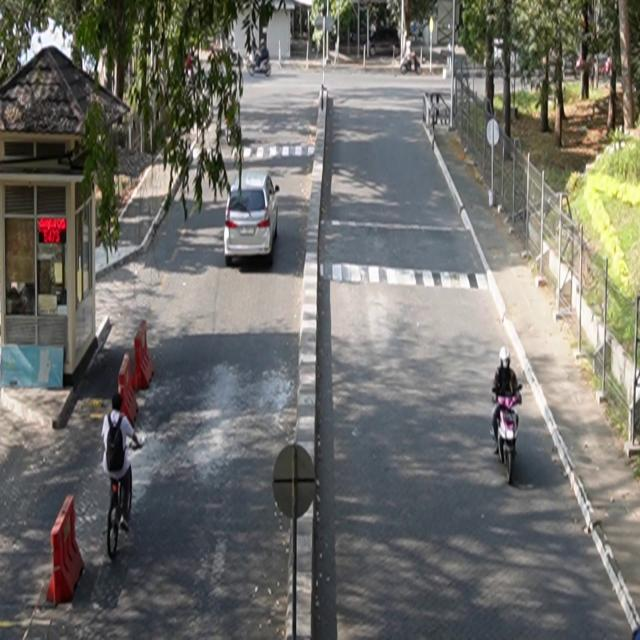car: (225, 169, 281, 267)
